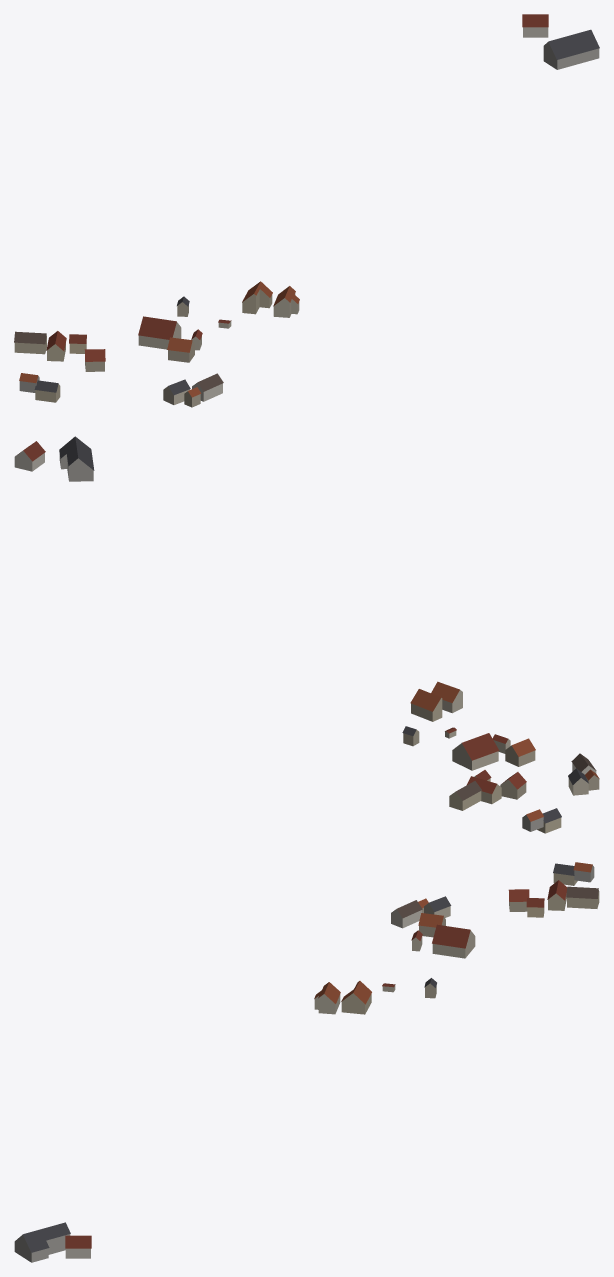
The picture shows the model from 3 angles, top to bottom: view 1: azimuth 90°, elevation 25°; view 2: azimuth 150°, elevation 25°; view 3: azimuth 270°, elevation 25°; orthographic projection.
Parts seen in each view (by area): view 1: buildings; view 2: buildings; view 3: buildings.
Part boxes in pixels (x1=…): buildings: x1=14, y1=14, x2=599, y2=407; buildings: x1=14, y1=436, x2=599, y2=833; buildings: x1=14, y1=862, x2=599, y2=1262.
Bounding box in the file's own units: 460 × 28.24 × 301.
